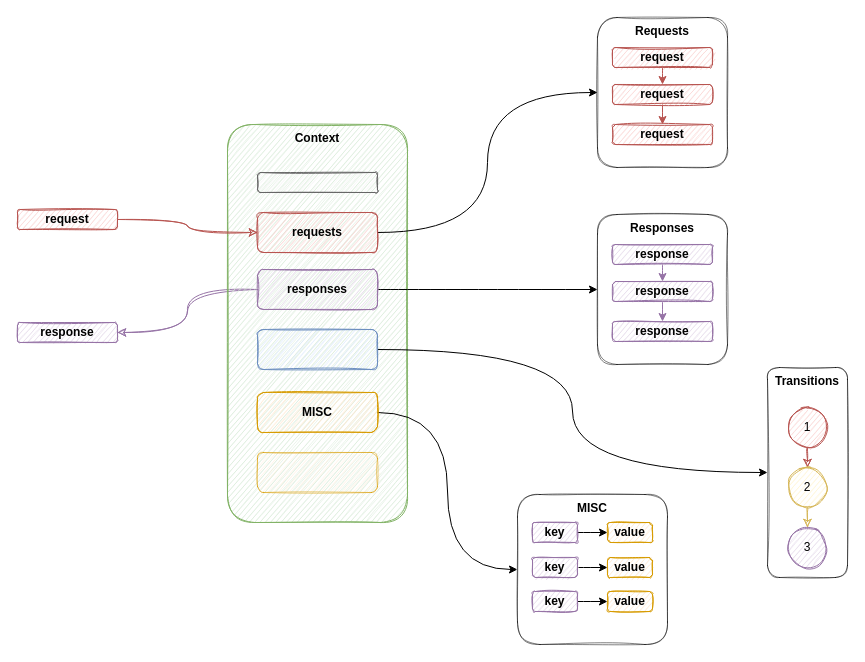
The diagram is 865 pixels wide and 662 high, and some of its shapes have lost their labels. Here are the shapes that lost their labels. From the top down, the centre of each, then its label:
At point 317,182: "ID".
At point 317,349: "labels".
At point 317,472: "framework_states".
